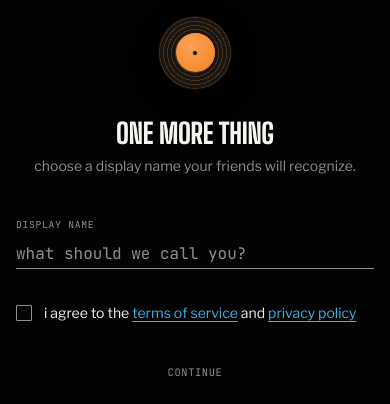
OnboardingRoute › brand-new user (no display name, no consent) › keeps submit disabled until both the name is filled and the box is checked
Expected: the button "continue" is disabled, left=16, top=357, right=374, bottom=387
Type "Alice" into the field labelled "display name". click: (195, 254)
box: left=16, top=240, right=374, bottom=268
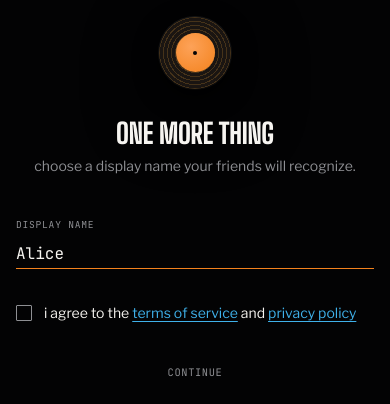
Expected: the button "continue" is disabled, left=16, top=357, right=374, bottom=387
Click the checkbox. click: (24, 312)
box: left=16, top=304, right=32, bottom=320
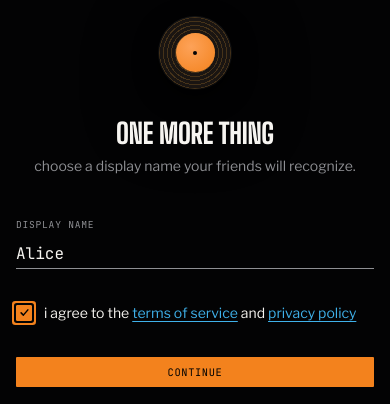
Expected: the button "continue" is enabled, left=16, top=357, right=374, bottom=387
